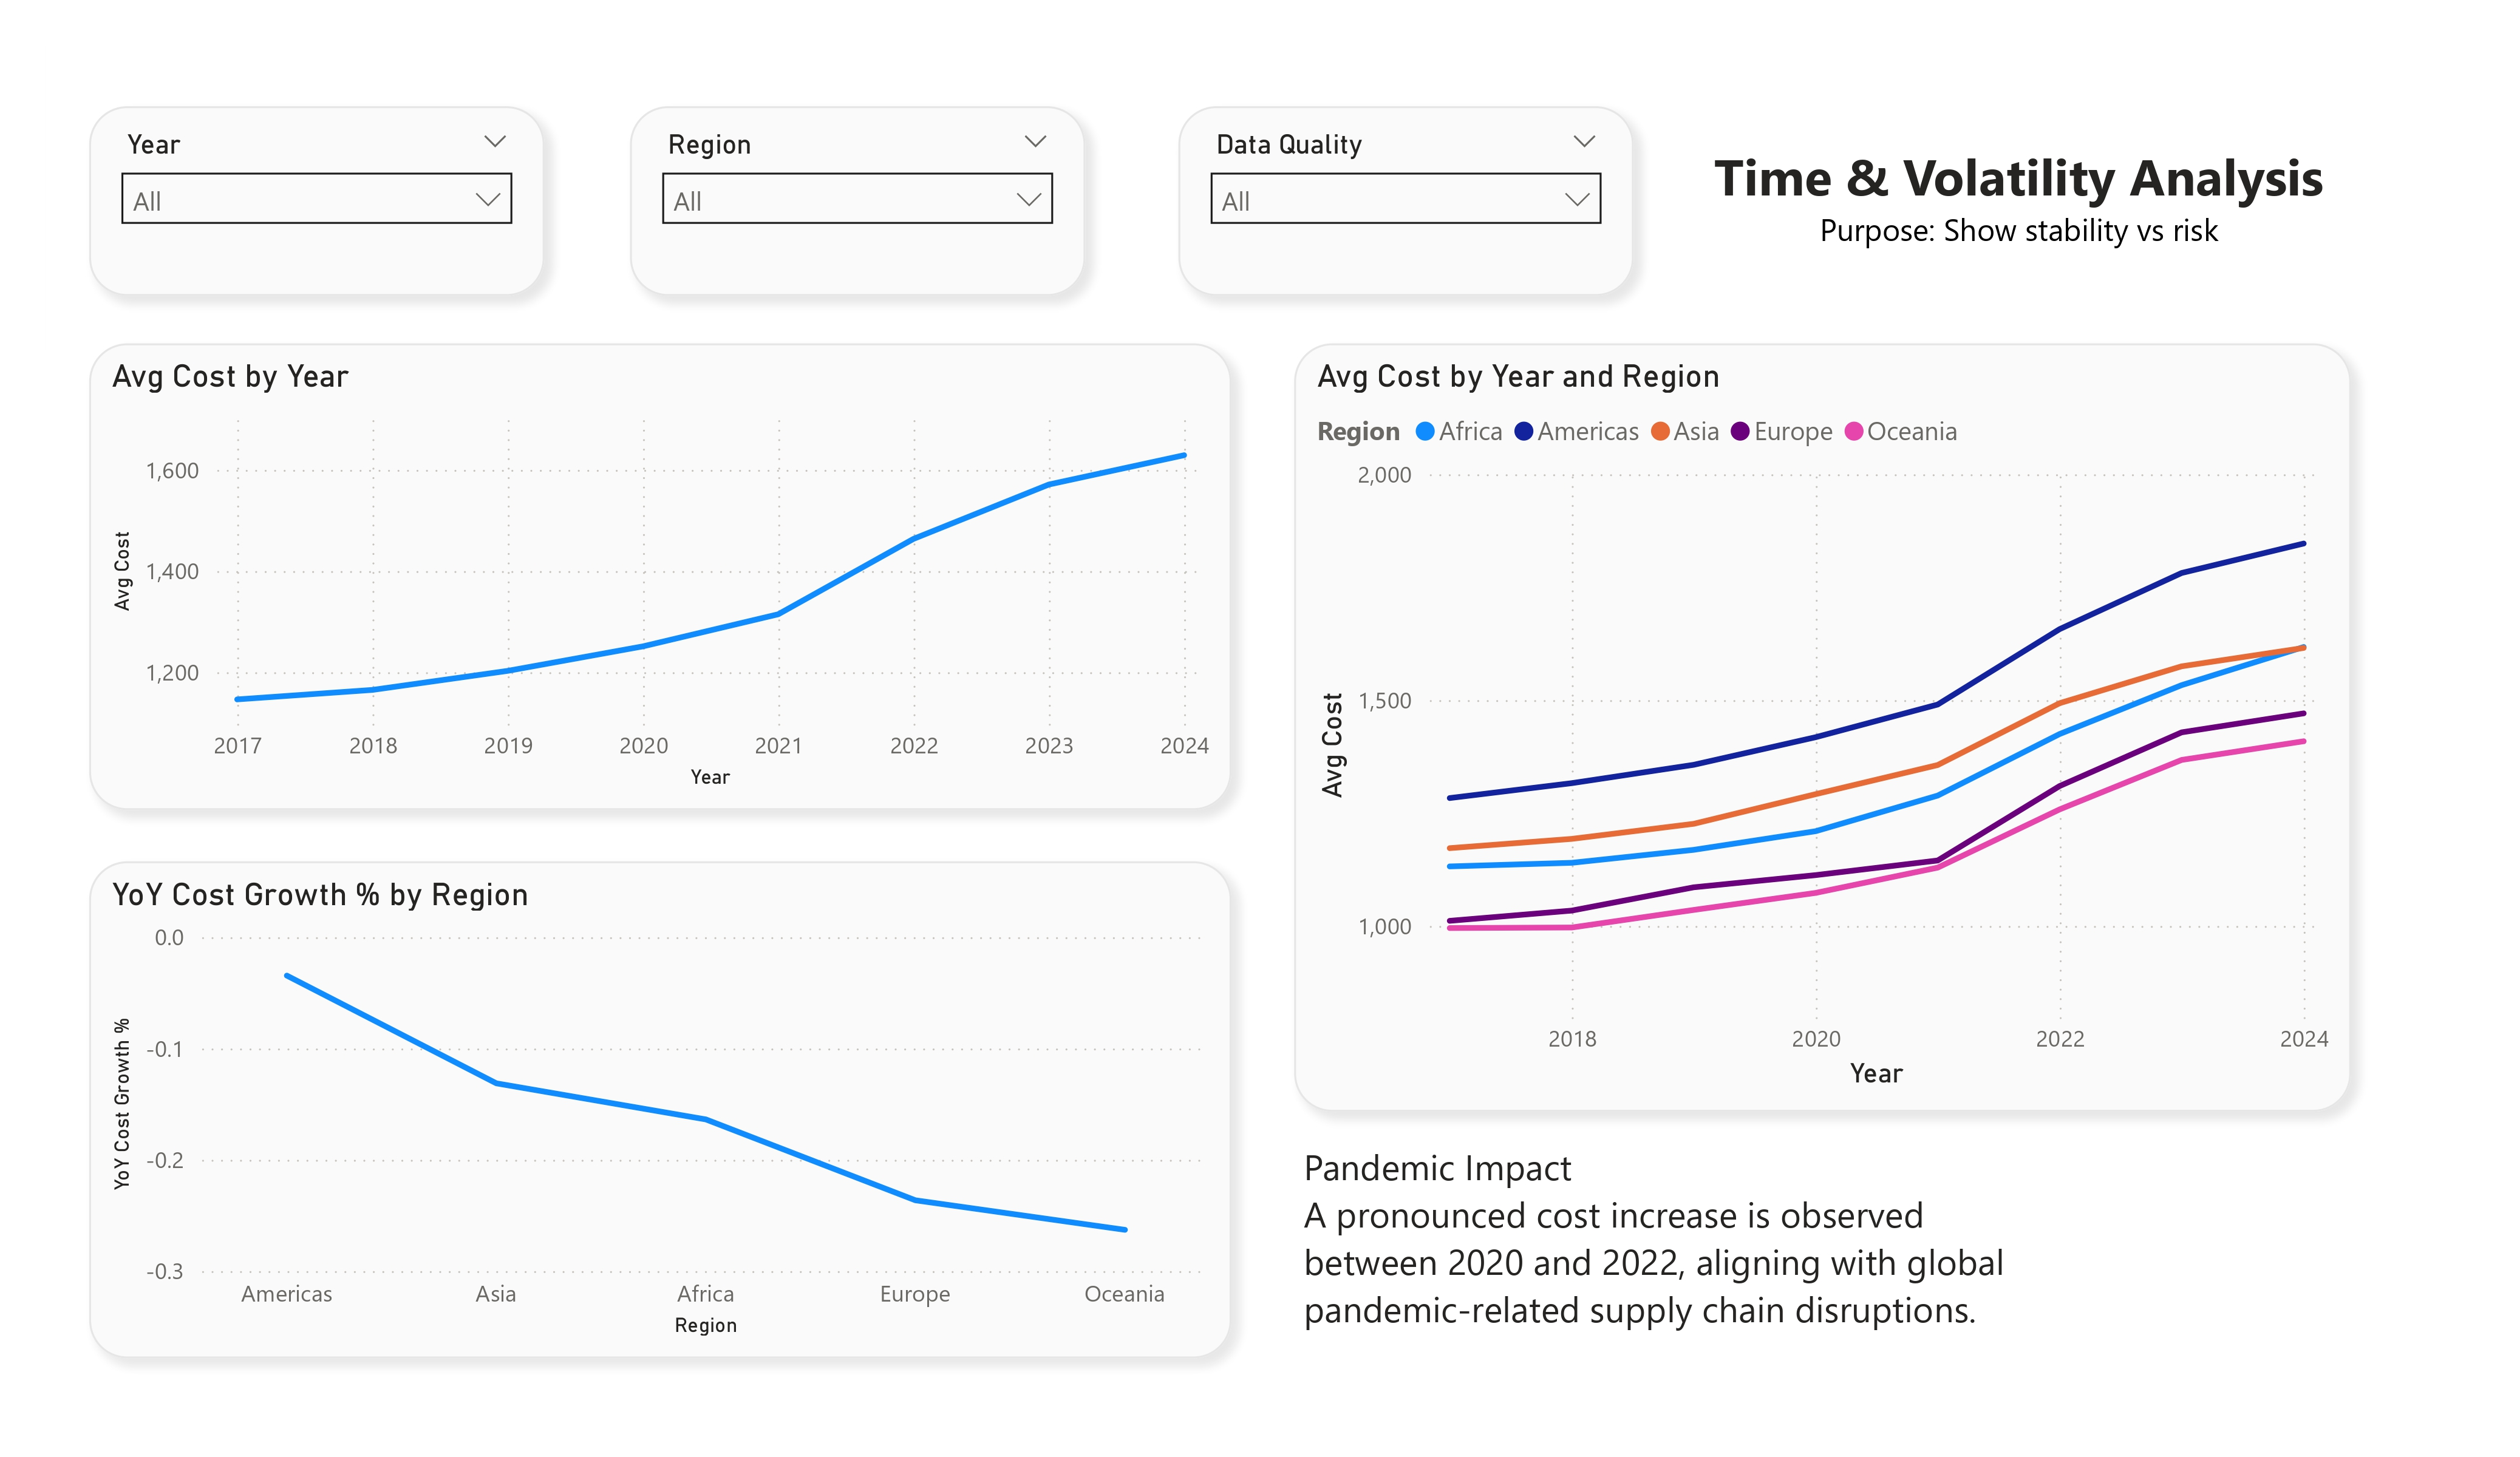

Layout of this report page (visuals, bound fields, positions):
{"tool":"powerbi","page":{"name":"Time & Volatility Analysis","canvas":[1280,720],"ordinal":2},"visuals":[{"type":"lineChart","fields":{"Y":["price_of_healthy_diet_corrected.YoY Cost Growth %"],"Category":["price_of_healthy_diet_corrected.Region"]},"box":[23.3,430,601.7,261.7],"z":0},{"type":"lineChart","fields":{"Category":["price_of_healthy_diet_corrected.Year"],"Y":["price_of_healthy_diet_corrected.Avg Cost"]},"box":[23.3,156.7,601.7,246.7],"z":1000},{"type":"lineChart","fields":{"Category":["price_of_healthy_diet_corrected.Year"],"Y":["price_of_healthy_diet_corrected.Avg Cost"],"Series":["price_of_healthy_diet_corrected.Region"]},"box":[658.3,156.7,556.7,405],"z":2000},{"type":"slicer","fields":{"Values":["price_of_healthy_diet_corrected.Year"]},"box":[23.3,31.7,240,100],"z":3000},{"type":"slicer","fields":{"Values":["price_of_healthy_diet_corrected.Region"]},"box":[308.3,31.7,240,100],"z":4000},{"type":"slicer","fields":{"Values":["price_of_healthy_diet_corrected.Data Quality"]},"box":[596.7,31.7,240,100],"z":5000},{"type":"textbox","box":[865,45,350,83.3],"z":6000},{"type":"textbox","box":[658.3,573.3,556.7,138.3],"z":6001}]}

Visuals, with their boxes on the page's 1280x720 design canvas (x1, y1, x2, y2). These are canvas units, not pixel positions in the 2520x1457 screenshot, which may show the page scaled, cropped or inside an application window:
lineChart - price_of_healthy_diet_corrected.YoY Cost Growth % x price_of_healthy_diet_corrected.Region: 23,430,625,692
lineChart - price_of_healthy_diet_corrected.Year x price_of_healthy_diet_corrected.Avg Cost: 23,157,625,403
lineChart - price_of_healthy_diet_corrected.Year x price_of_healthy_diet_corrected.Avg Cost: 658,157,1215,562
slicer - price_of_healthy_diet_corrected.Year: 23,32,263,132
slicer - price_of_healthy_diet_corrected.Region: 308,32,548,132
slicer - price_of_healthy_diet_corrected.Data Quality: 597,32,837,132
textbox: 865,45,1215,128
textbox: 658,573,1215,712
